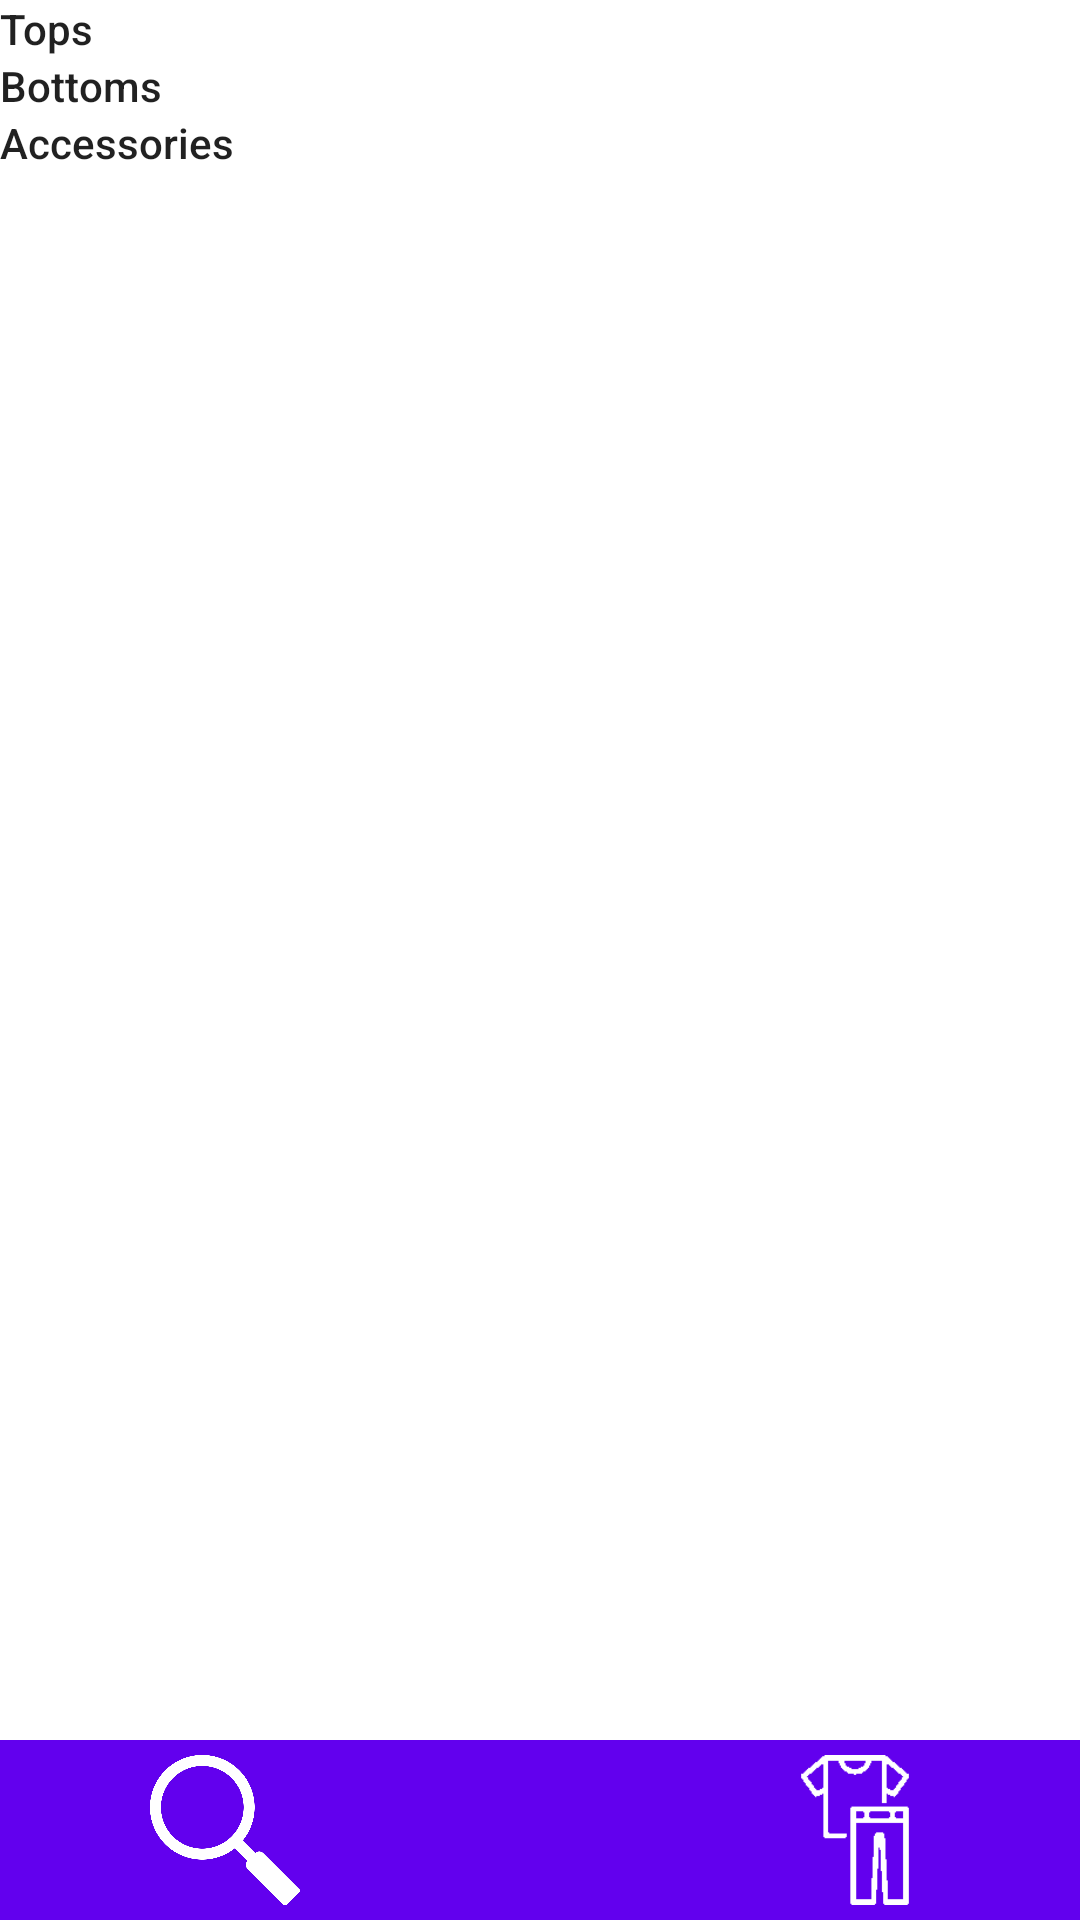

Named icons in this screenshot (1080x1920) and their centers, [x,y]:
magnifyingglass: [225,1830]
outfiticon: [855,1830]
